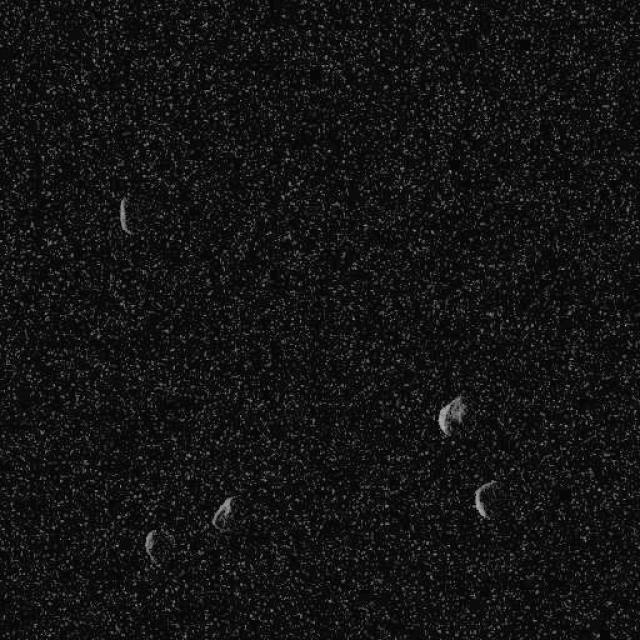D2: (437, 394, 468, 436), (472, 479, 498, 520), (210, 495, 235, 530), (118, 195, 132, 235), (144, 528, 156, 558)
